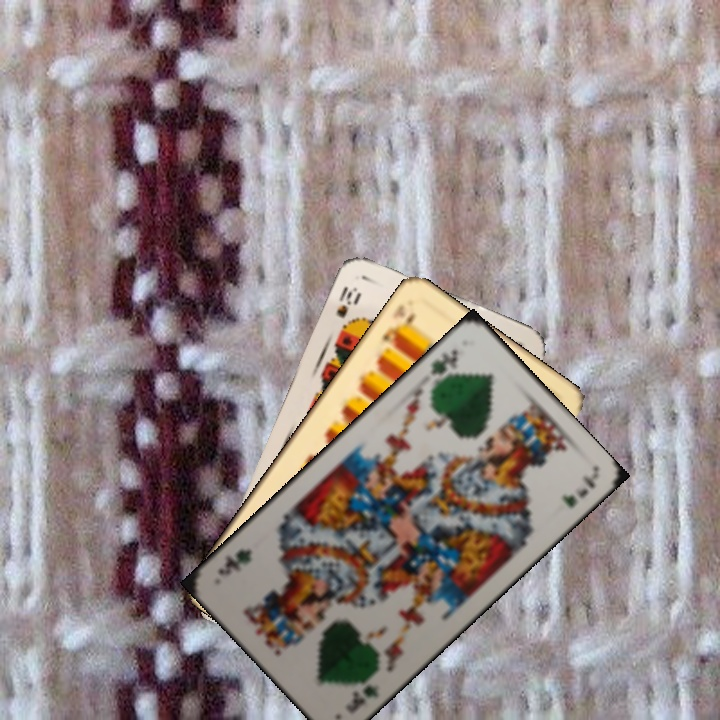E10: (378, 308, 418, 350)
GK: (342, 680, 382, 716), (427, 345, 461, 379)
S10: (332, 282, 363, 321)
